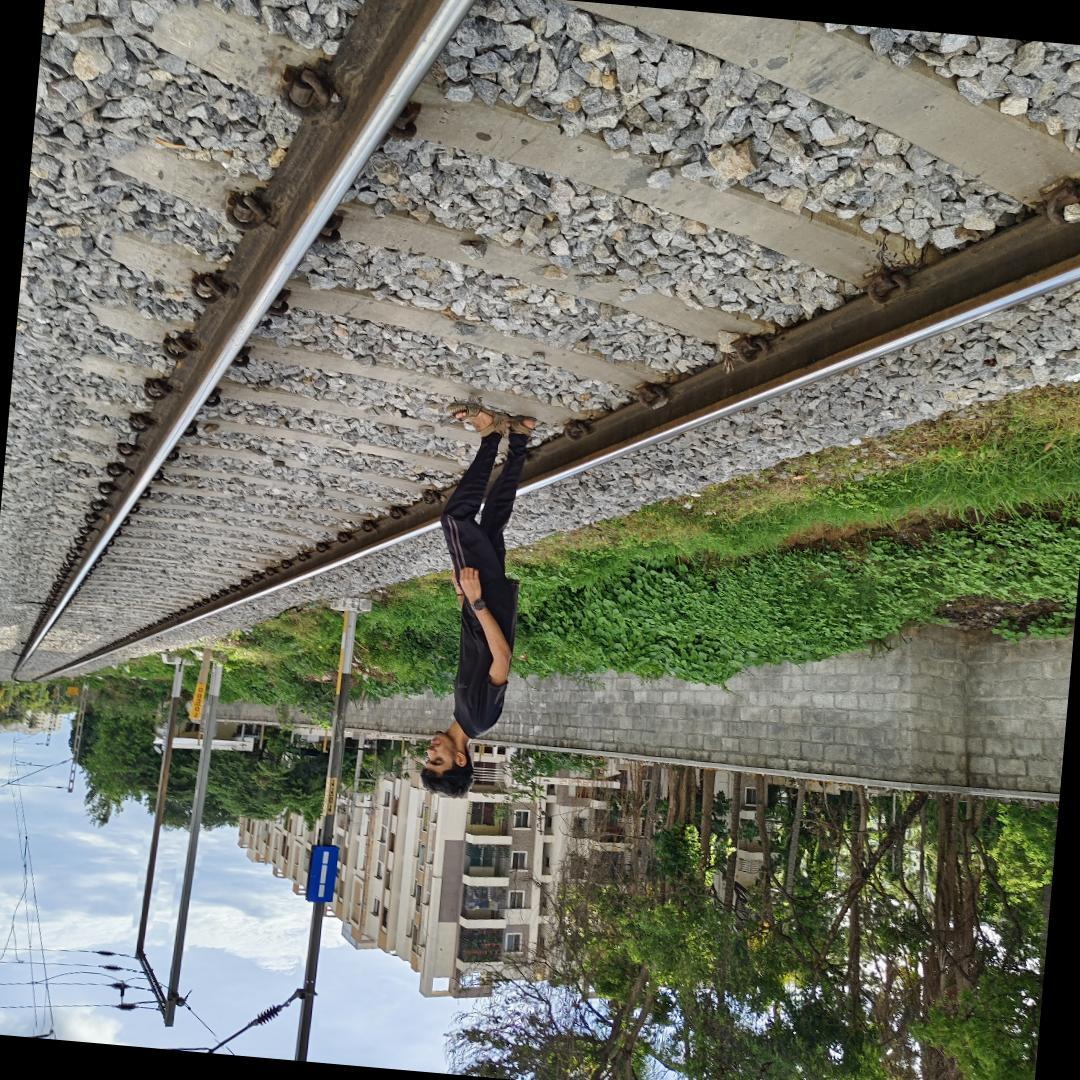standing: (419, 393, 545, 802)
